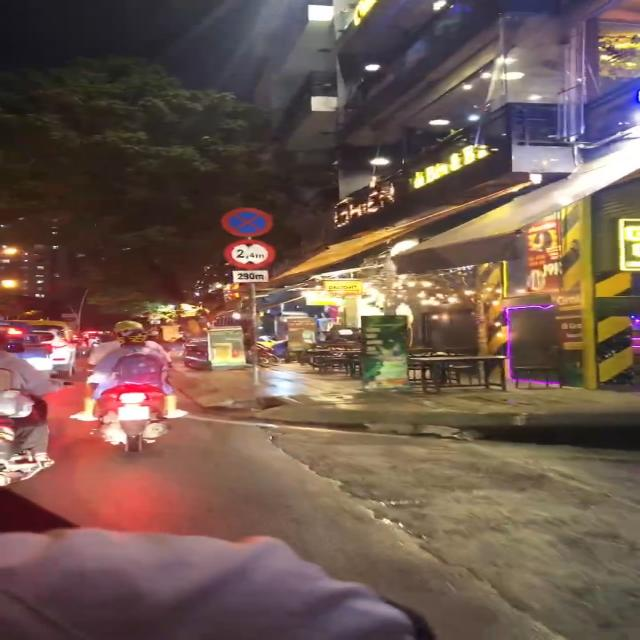Bien bao cam dung xe va do xe: (216, 204, 278, 238)
Bien bao han che chieu cao: (223, 239, 278, 269)
